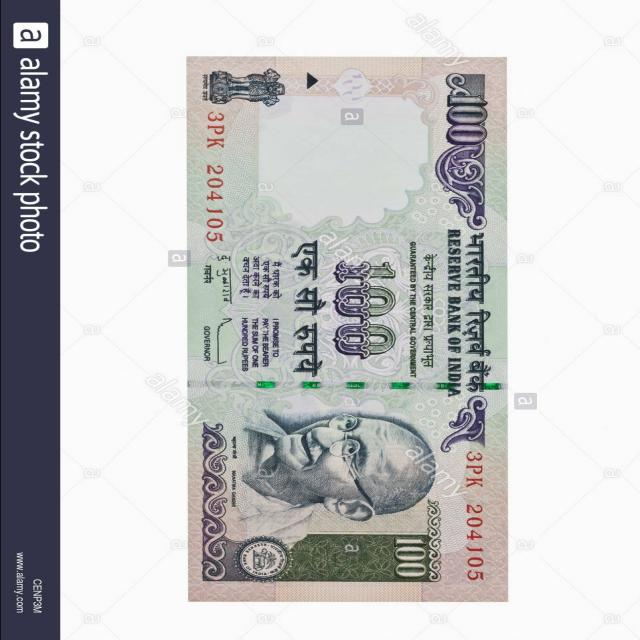100IndianRupees: (185, 56, 505, 597)
